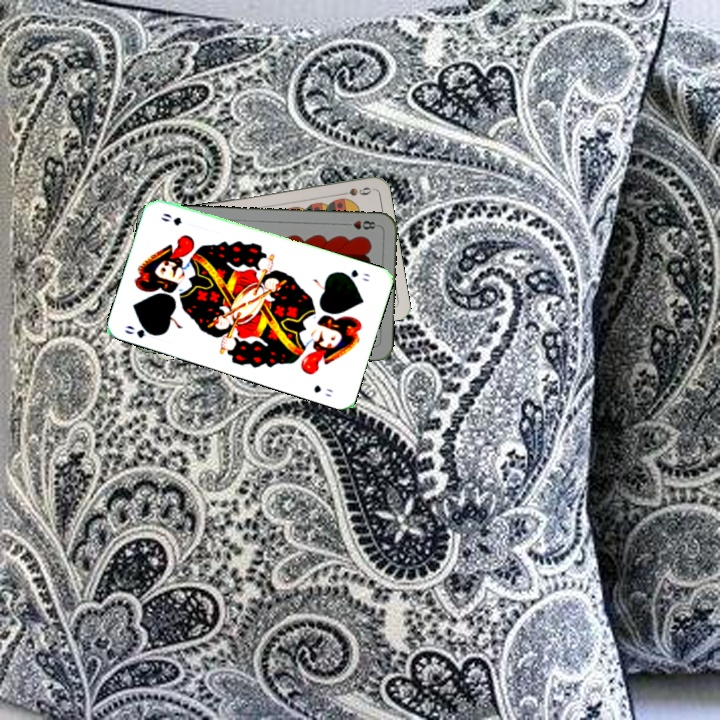GO: (121, 321, 161, 341), (337, 265, 372, 284)
H8: (340, 216, 381, 232)
S9: (334, 183, 374, 199)
